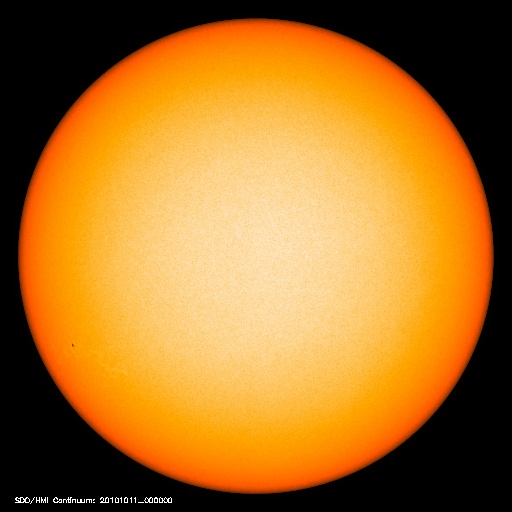sunspot: (63, 335, 85, 356)
